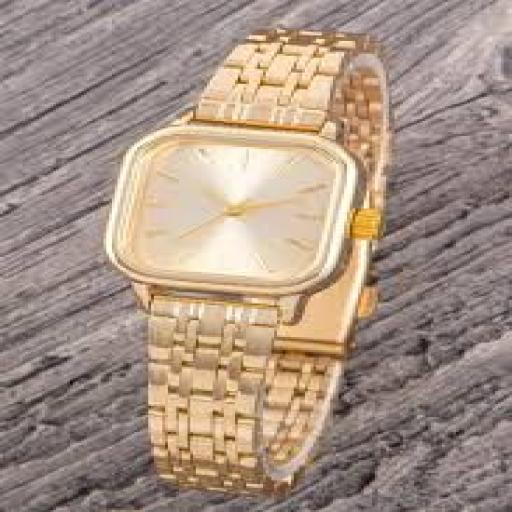KolSaati: (56, 12, 465, 510)
